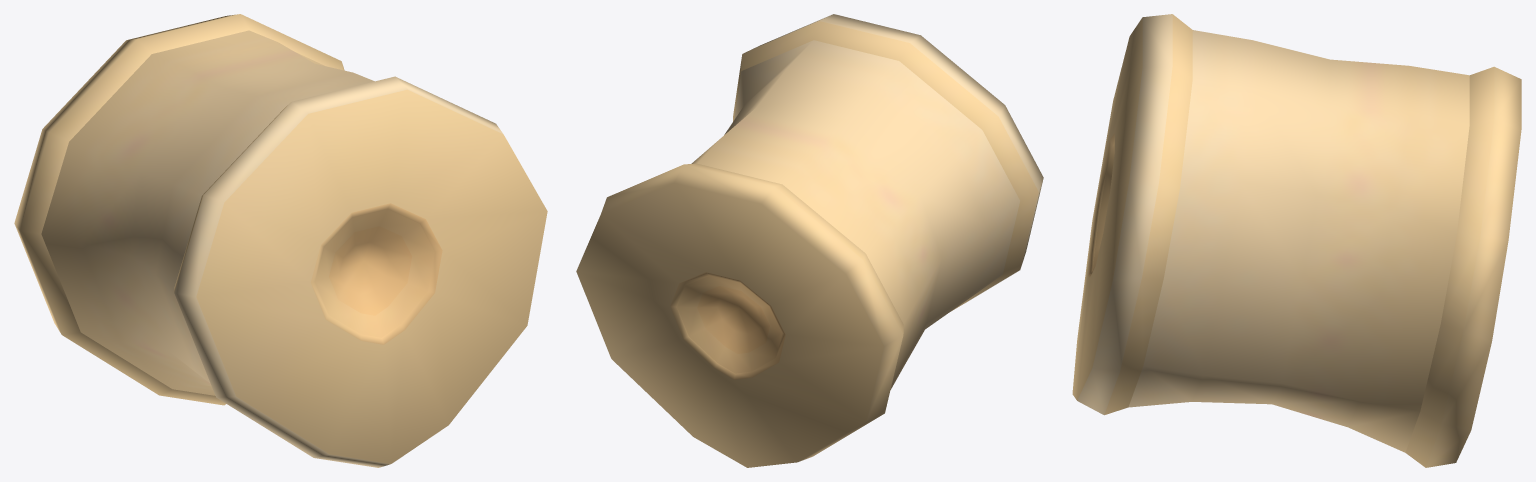
Rendered from Spine1.fbx.
3 renders of one model, left to right at view 1: azimuth 30°, elevation 25°; view 2: azimuth 150°, elevation 25°; view 3: azimuth 270°, elevation 25°, orthographic. The views are drawn at different scales.
Visible parts, largest first — view 1: pCylinder6; view 2: pCylinder6; view 3: pCylinder6.
Part boxes in pixels (left/top/right/bottom): pCylinder6: left=14, top=14, right=547, bottom=467; pCylinder6: left=576, top=14, right=1043, bottom=467; pCylinder6: left=1072, top=14, right=1521, bottom=467.
Bounding box in the file's own units: 1.84 × 1.97 × 1.91.
